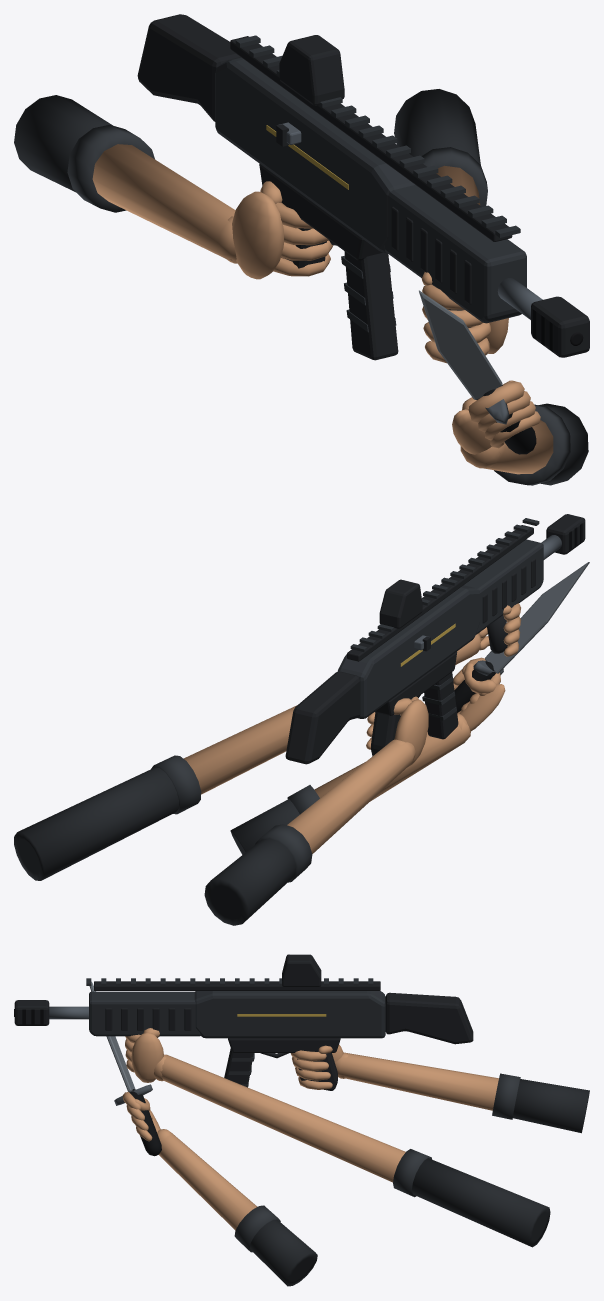
The model's file is killer_t.glb.
The picture shows the model from 3 angles, top to bottom: view 1: azimuth 30°, elevation 25°; view 2: azimuth 150°, elevation 25°; view 3: azimuth 270°, elevation 25°; orthographic projection. The views are drawn at different scales.
Visible parts, largest first — view 1: w_killer_t.body, w_killer_t.arm_r, w_killer_t.melee, w_killer_t.arm_l, w_killer_t.mag; view 2: w_killer_t.body, w_killer_t.arm_l, w_killer_t.arm_r, w_killer_t.melee, w_killer_t.mag; view 3: w_killer_t.body, w_killer_t.arm_l, w_killer_t.arm_r, w_killer_t.melee, w_killer_t.mag.
Boxes of the visible parts, box(x1,y1,x2,y2) form: w_killer_t.body: box(137, 14, 589, 357); w_killer_t.arm_r: box(14, 95, 333, 279); w_killer_t.melee: box(419, 290, 588, 485); w_killer_t.arm_l: box(394, 89, 508, 363); w_killer_t.mag: box(341, 251, 398, 360); w_killer_t.body: box(285, 514, 585, 764); w_killer_t.arm_l: box(14, 603, 521, 880); w_killer_t.arm_r: box(204, 696, 428, 925); w_killer_t.melee: box(230, 562, 589, 854); w_killer_t.mag: box(422, 672, 458, 739); w_killer_t.body: box(14, 954, 473, 1090); w_killer_t.arm_l: box(125, 1028, 550, 1247); w_killer_t.arm_r: box(290, 1044, 589, 1133); w_killer_t.melee: box(89, 981, 317, 1286); w_killer_t.mag: box(224, 1048, 254, 1087).
Bounding box in the file's own units: 0.5854 × 0.5956 × 1.16.
